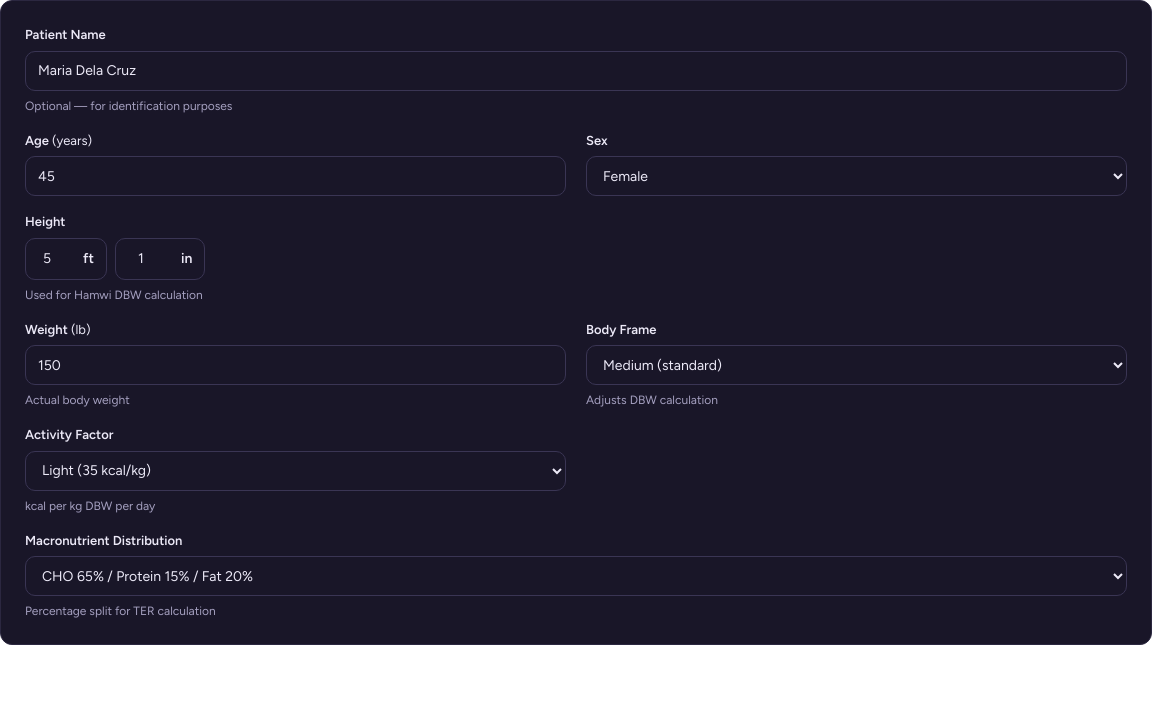
PatientForm validation › blur validation - age › shows error for age below minimum
The image size is (1152, 720).
Replace the text in the number field labelled "Age (years)" with "0" at (296, 176), box [25,156,566,196]
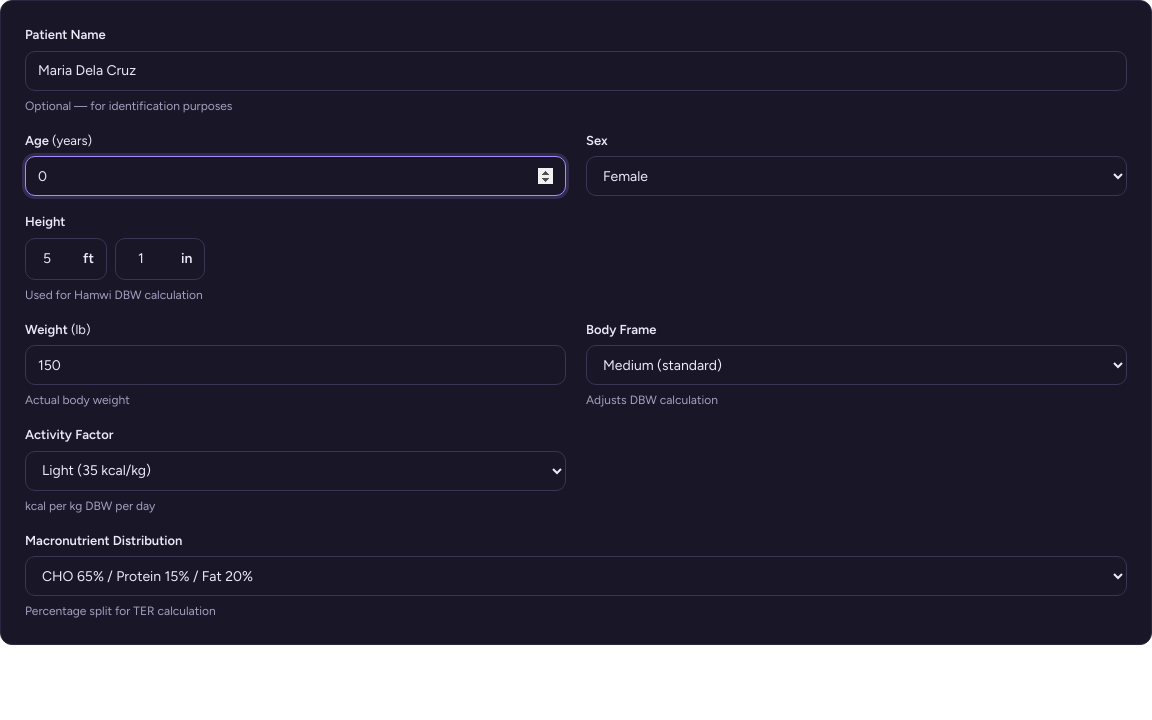
Press Tab
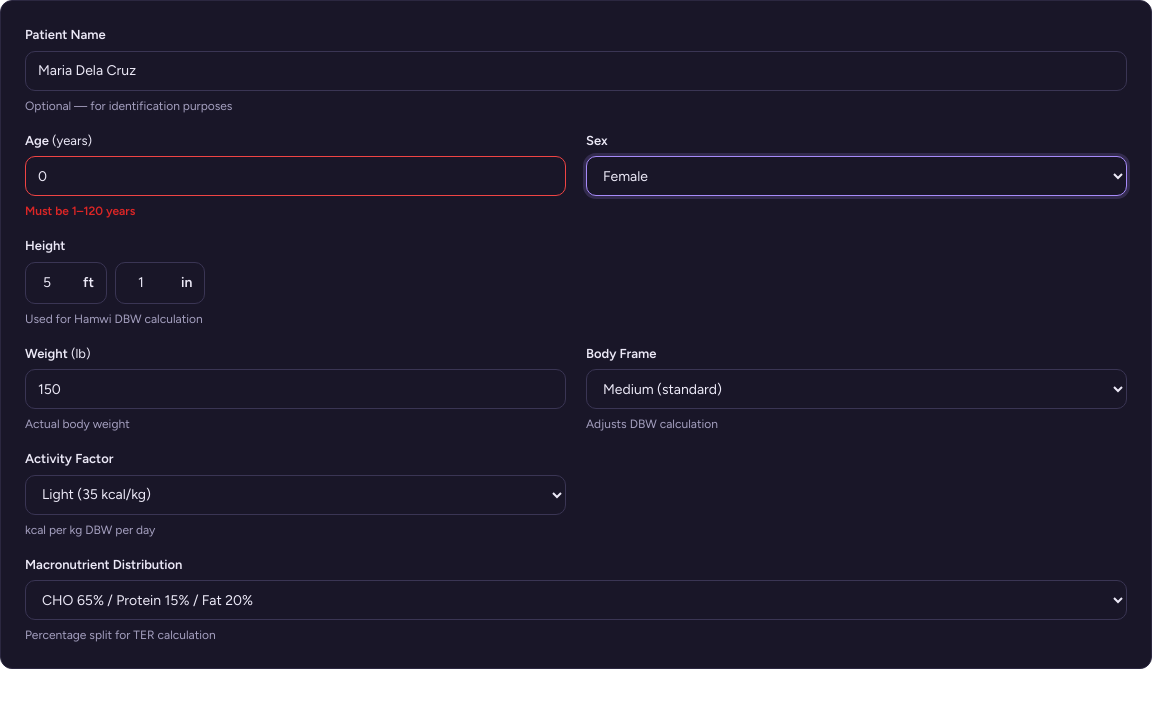
Expected: the text "Must be 1–120 years" is shown, [25,204,135,218]
